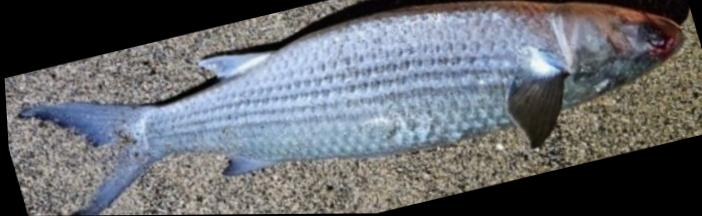fish: (16, 0, 687, 216)
